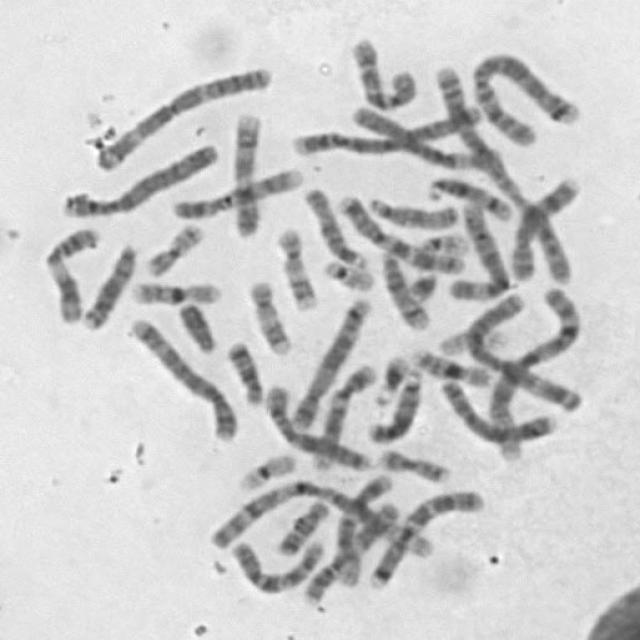A1: (205, 476, 434, 560), (480, 282, 585, 464)
A2: (429, 56, 578, 282), (467, 48, 582, 146)
A3: (90, 59, 277, 172), (459, 284, 586, 416)
B4: (58, 137, 224, 220), (287, 98, 486, 160)
B5: (123, 312, 241, 442), (286, 291, 374, 431)
C10: (226, 533, 329, 596), (343, 30, 419, 112)
C11: (297, 498, 400, 606), (39, 221, 102, 325)
C12: (329, 468, 397, 590), (307, 358, 379, 473)
C6: (348, 102, 497, 172), (444, 195, 513, 302)
C7: (362, 484, 486, 592), (333, 188, 472, 275)
C8: (507, 169, 588, 282), (433, 374, 556, 444)
C9: (168, 161, 307, 221), (226, 106, 266, 238)
D13: (77, 237, 141, 332), (363, 365, 424, 444)
D14: (374, 246, 432, 330), (422, 170, 514, 222)
D15: (300, 182, 370, 270), (363, 191, 463, 230)
E16: (406, 342, 496, 388), (125, 275, 223, 307)
E17: (272, 221, 322, 312), (243, 274, 296, 357)
E18: (272, 496, 331, 557), (221, 335, 266, 406)
F19: (233, 448, 300, 492), (433, 324, 509, 356)
F20: (140, 216, 207, 278), (372, 443, 453, 485)
G21: (368, 348, 412, 408), (402, 266, 440, 303)
G22: (316, 255, 379, 292), (414, 228, 470, 259)
X: (257, 378, 374, 473)
Y: (172, 297, 220, 355)
